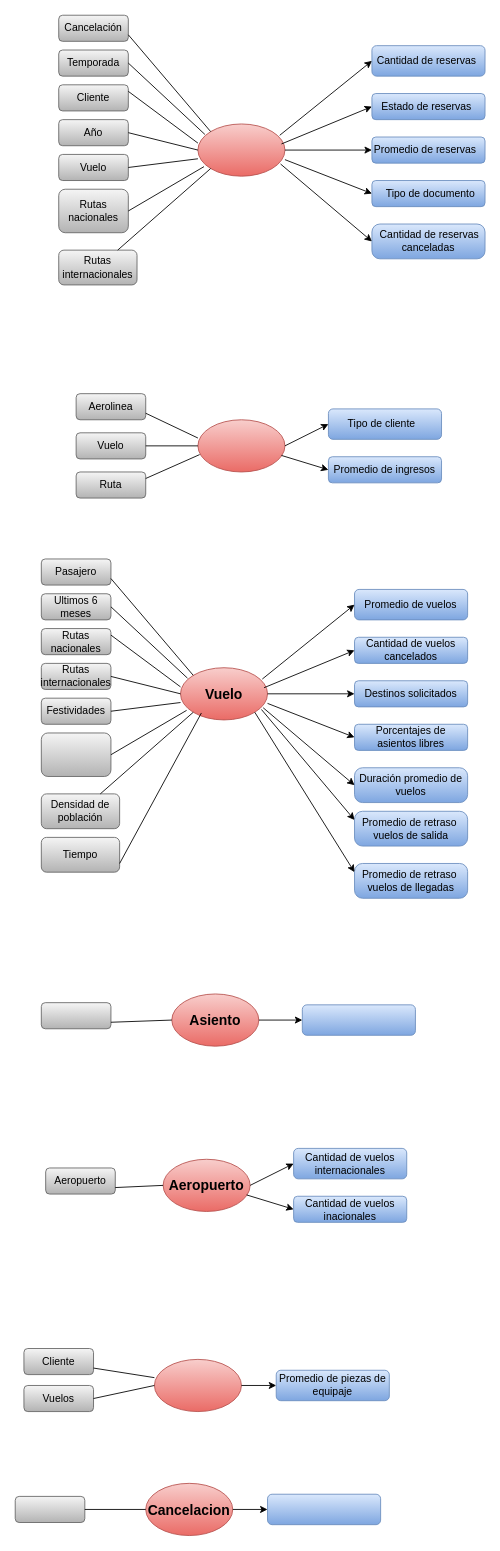
This 500x1551 diagram has some shape labels left out. Here are the shapes that lost their labels. From the top down, the centre of each, then its label:
(241,149): Reservas
(241,445): Ingresos
(75,754): Cuidad
(75,1015): Tasa de ocupación
(358,1019): Primera clase
(197,1385): Equipaje
(49,1509): Cancelaciones
(324,1509): Tipo de cliente
